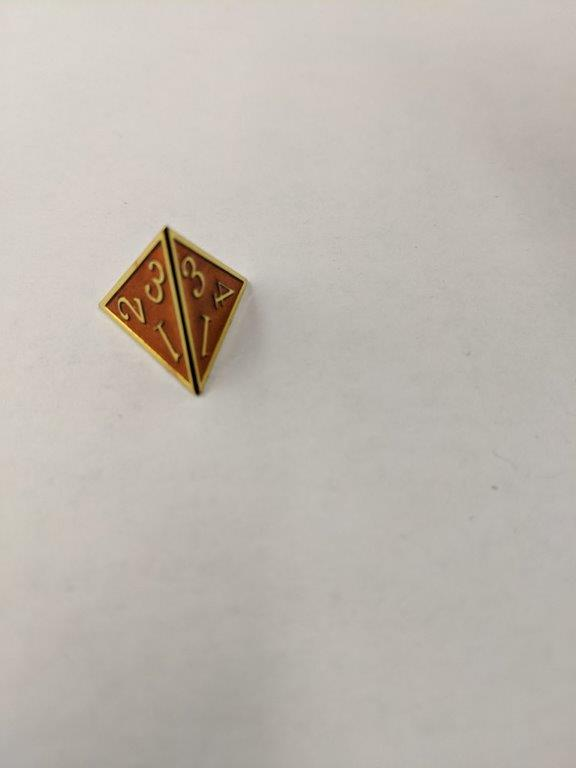d4-3: (94, 224, 254, 401)
